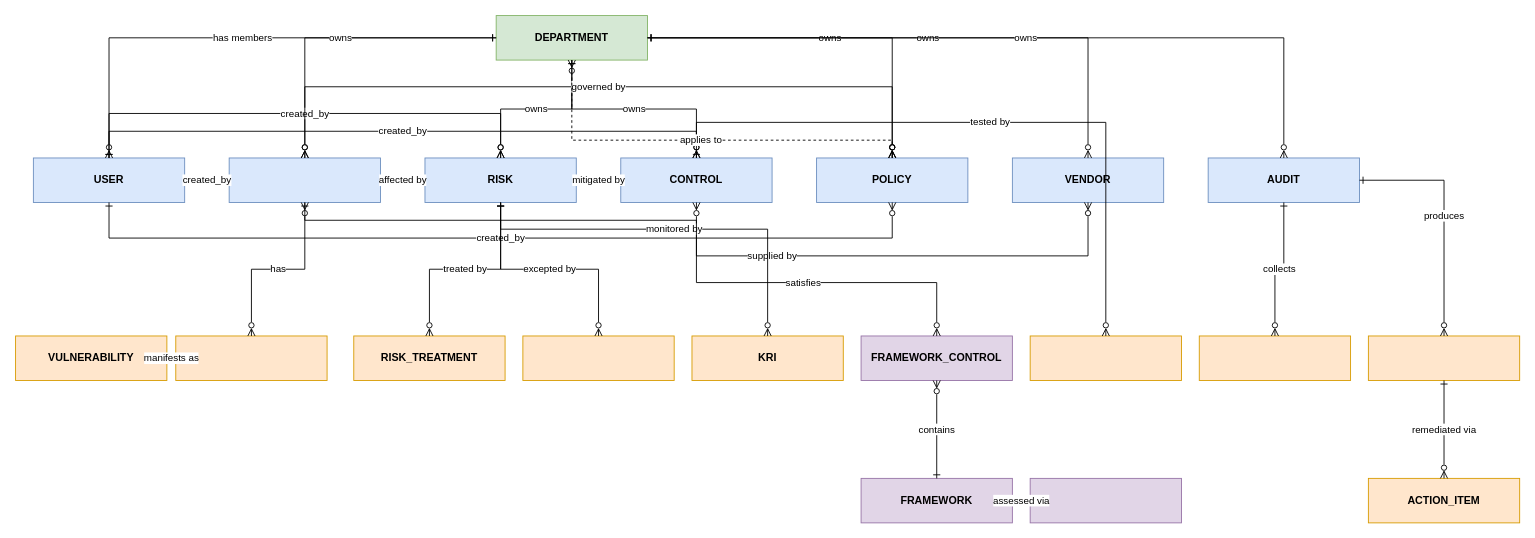
This 1535x538 diagram has some shape labels left out. The centre of each missing label's shape, as x and y in pixels:
"ASSET" goes at point (304, 179).
"AUDIT_FINDING" goes at point (1443, 357).
"COMPLIANCE_ASSESSMENT" goes at point (1105, 500).
"CONTROL_TEST" goes at point (1105, 357).
"EVIDENCE_ITEM" goes at point (1274, 357).
"FINDING" goes at point (251, 357).
"RISK_EXCEPTION" goes at point (598, 357).
